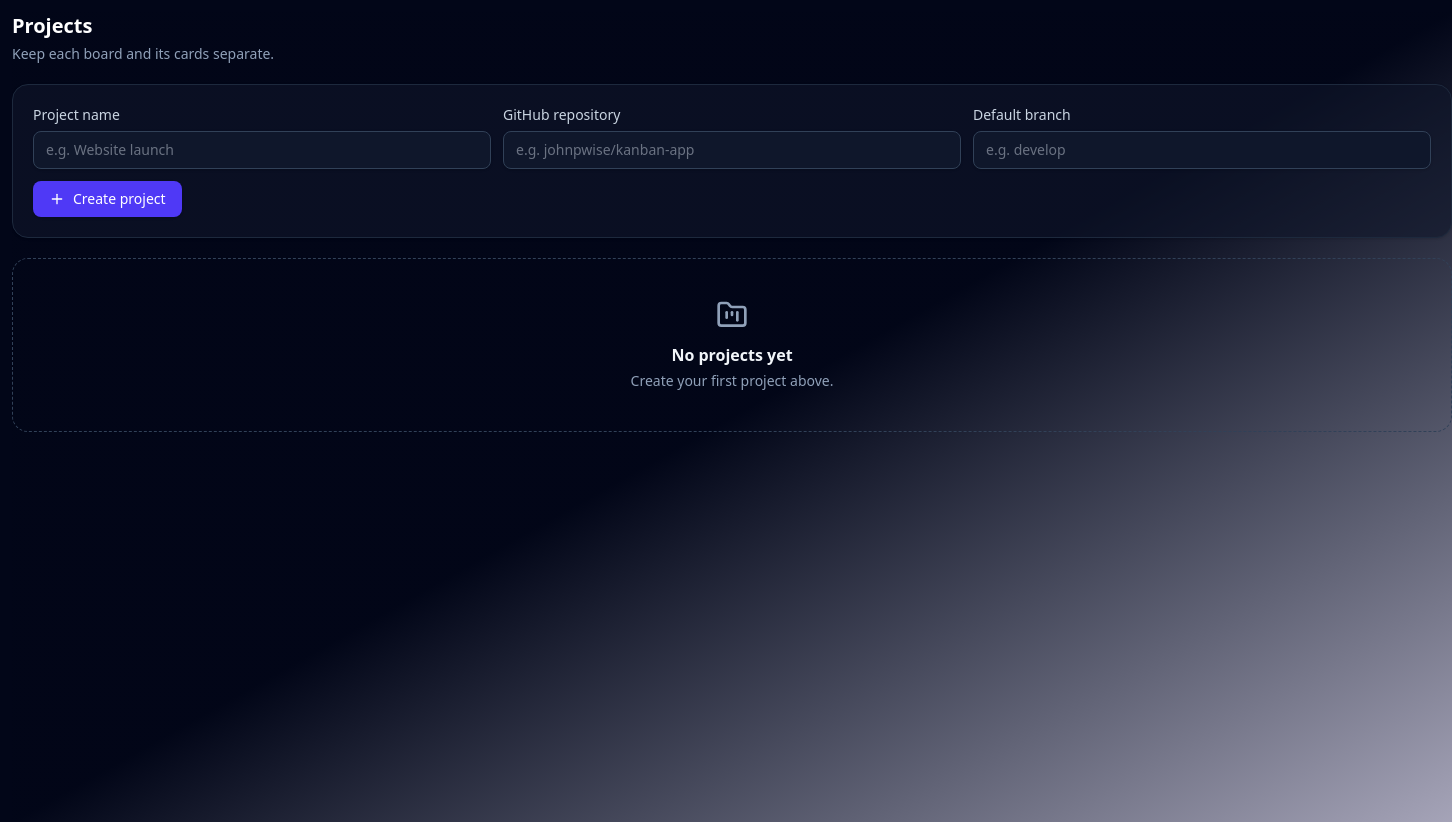
Scenario: ProjectDashboard › should disable submission and announce pending project creation
The image size is (1452, 822).
Type "Launch plan" into the field labelled "Project name" at x=262, y=150, box [33, 131, 491, 169]
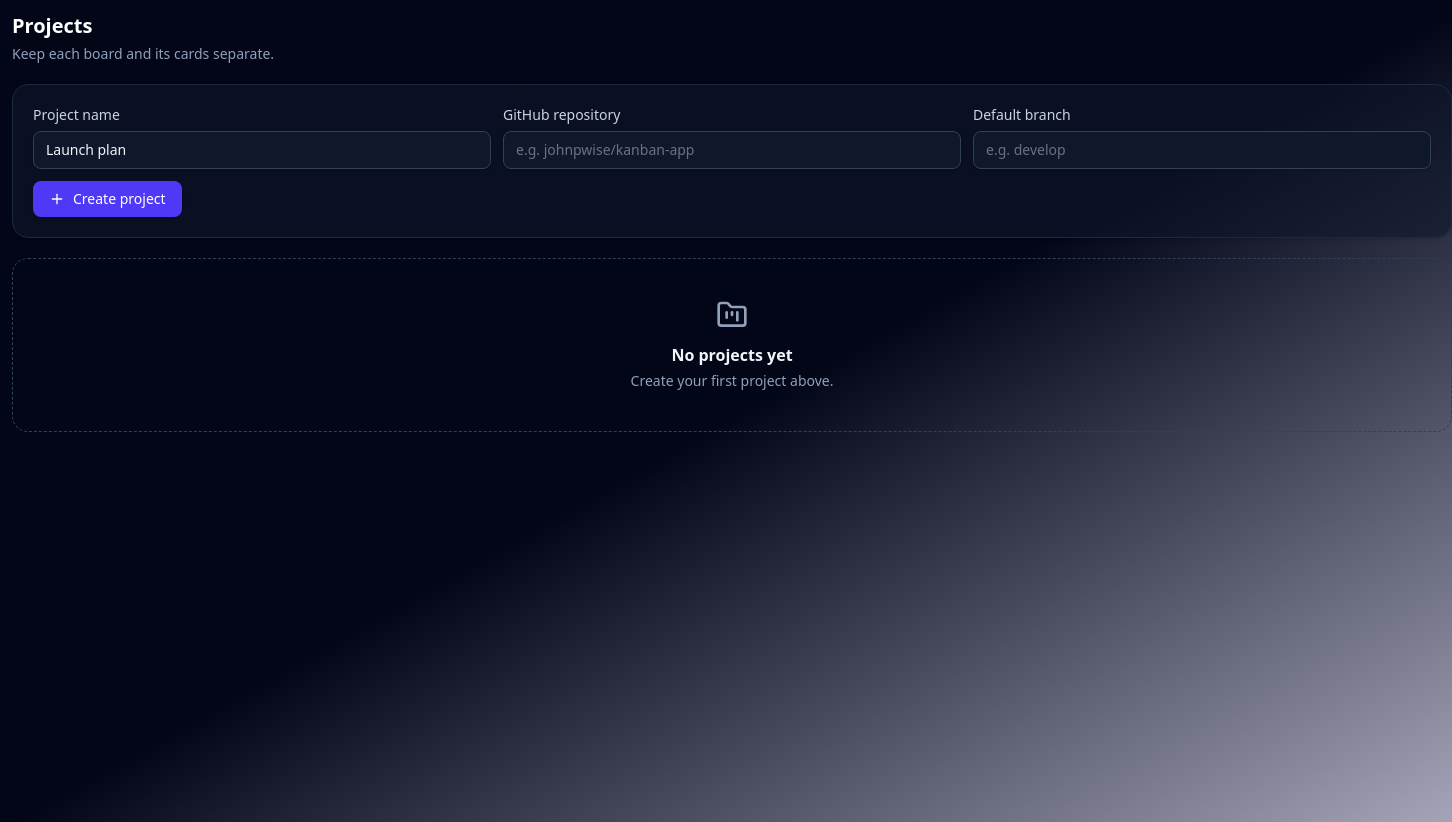
Submit the form with test id "project-dashboard-form", box [12, 84, 1451, 238]
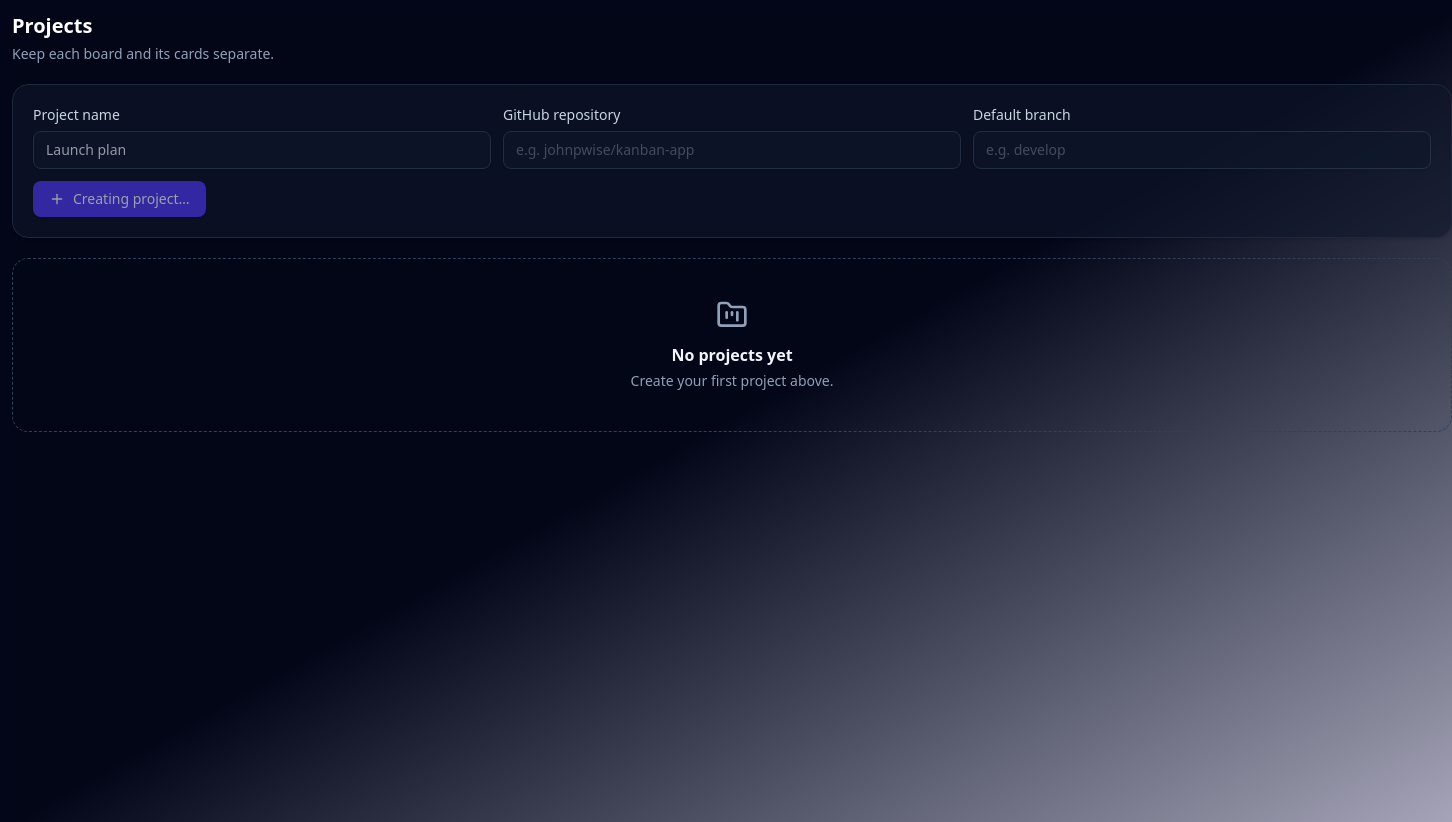
expect the button "Creating project…" is disabled: met, box [33, 181, 206, 217]
